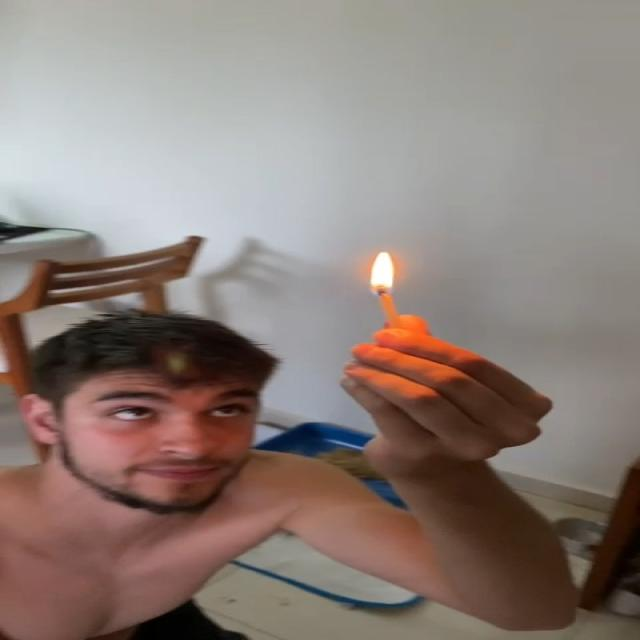fogo-ypXI: (369, 250, 396, 296)
